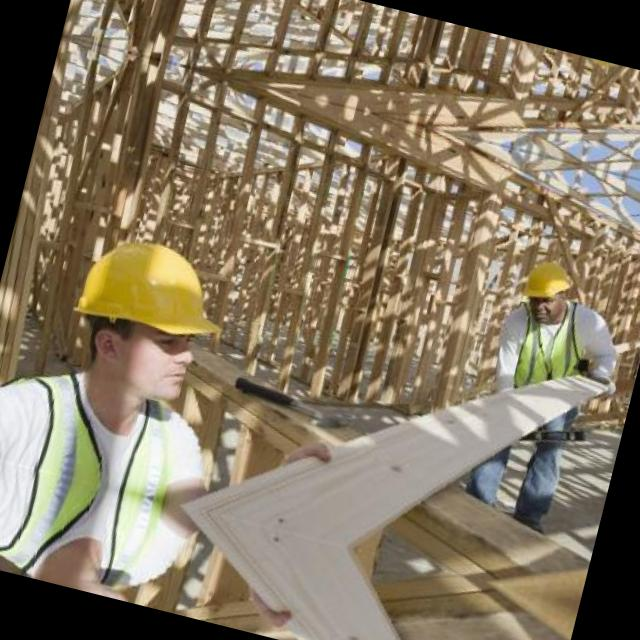helmet: (44, 204, 252, 433), (508, 252, 583, 324)
